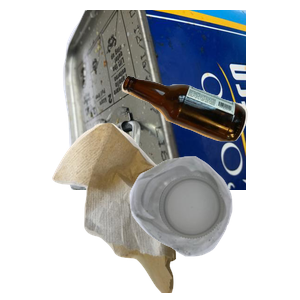glass: (119, 73, 300, 207)
metal: (60, 10, 300, 190)
plastic: (127, 154, 300, 300)
trash: (50, 120, 219, 300)
